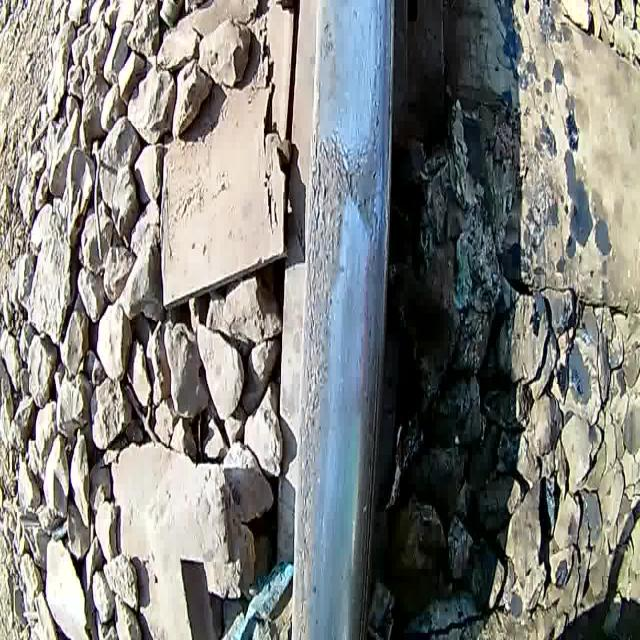Flakings: (290, 117, 348, 640)
Squats: (346, 116, 382, 251)
